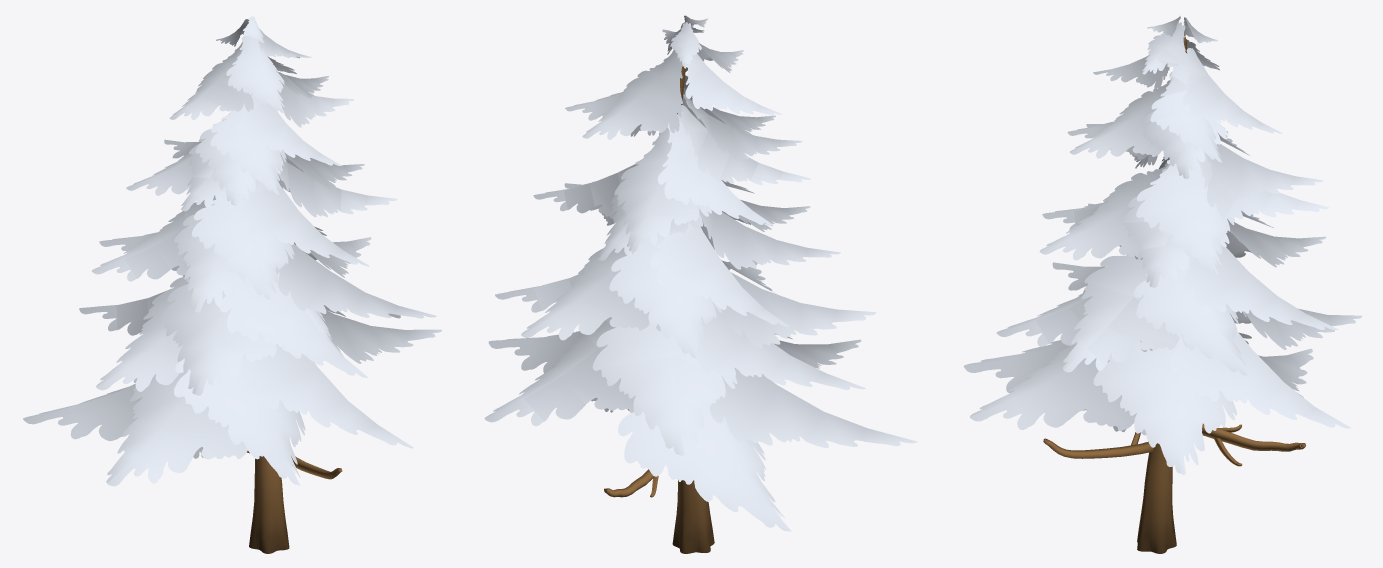
File: StylizedPine_5.glb
The picture shows the model from 3 angles, left to right: view 1: azimuth 30°, elevation 25°; view 2: azimuth 150°, elevation 25°; view 3: azimuth 270°, elevation 25°; orthographic projection. The views are drawn at different scales.
Parts seen in each view (by area): view 1: Pine_2; view 2: Pine_2; view 3: Pine_2.
Part boxes in pixels (x1,y1,x2,y2): Pine_2: (23, 16, 441, 553); Pine_2: (484, 15, 917, 553); Pine_2: (963, 16, 1361, 553).
Bounding box in the file's own units: 5.73 × 7.38 × 5.22.
Materials: 2 (1 with a texture image).
